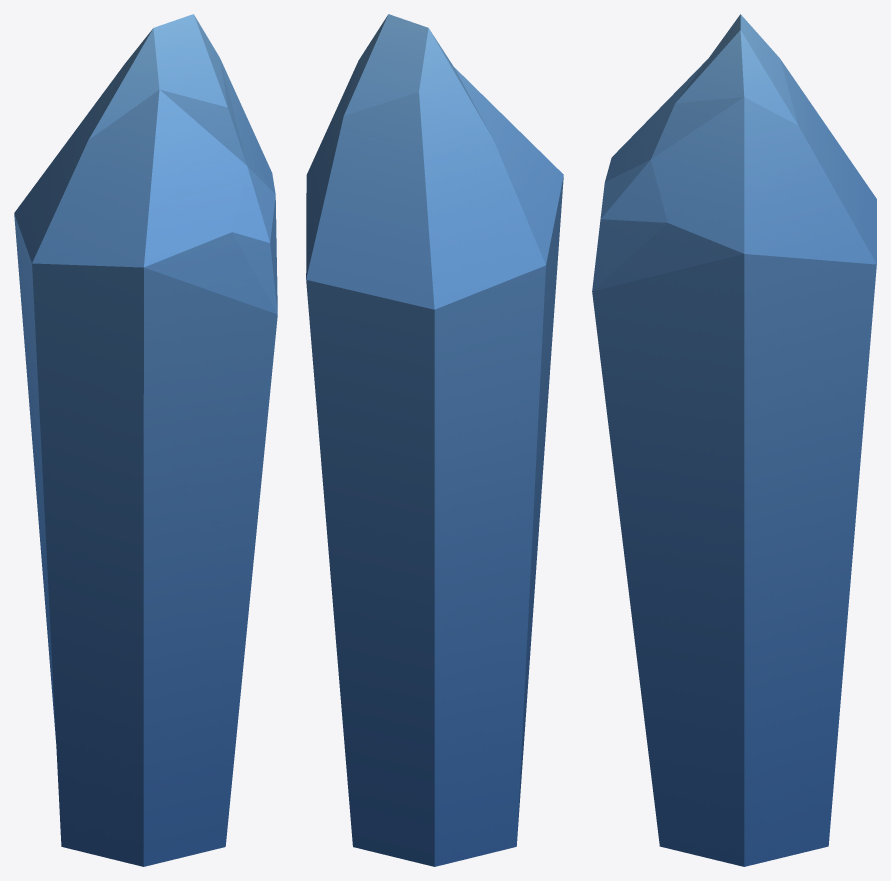
File: crystals_03.fbx
3 renders of one model, left to right at view 1: azimuth 30°, elevation 25°; view 2: azimuth 150°, elevation 25°; view 3: azimuth 270°, elevation 25°, orthographic. The views are drawn at different scales.
Visible parts, largest first — view 1: crystal_03; view 2: crystal_03; view 3: crystal_03.
Part boxes in pixels (x1,y1,x2,y2): crystal_03: (14, 14, 277, 866); crystal_03: (306, 14, 563, 866); crystal_03: (592, 14, 876, 866).
Size of the model in its own units: 2.99 by 9.53 by 3.
1 material, 1 textured.
